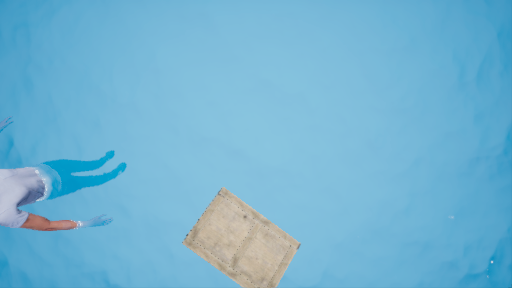person: (2, 121, 126, 238)
